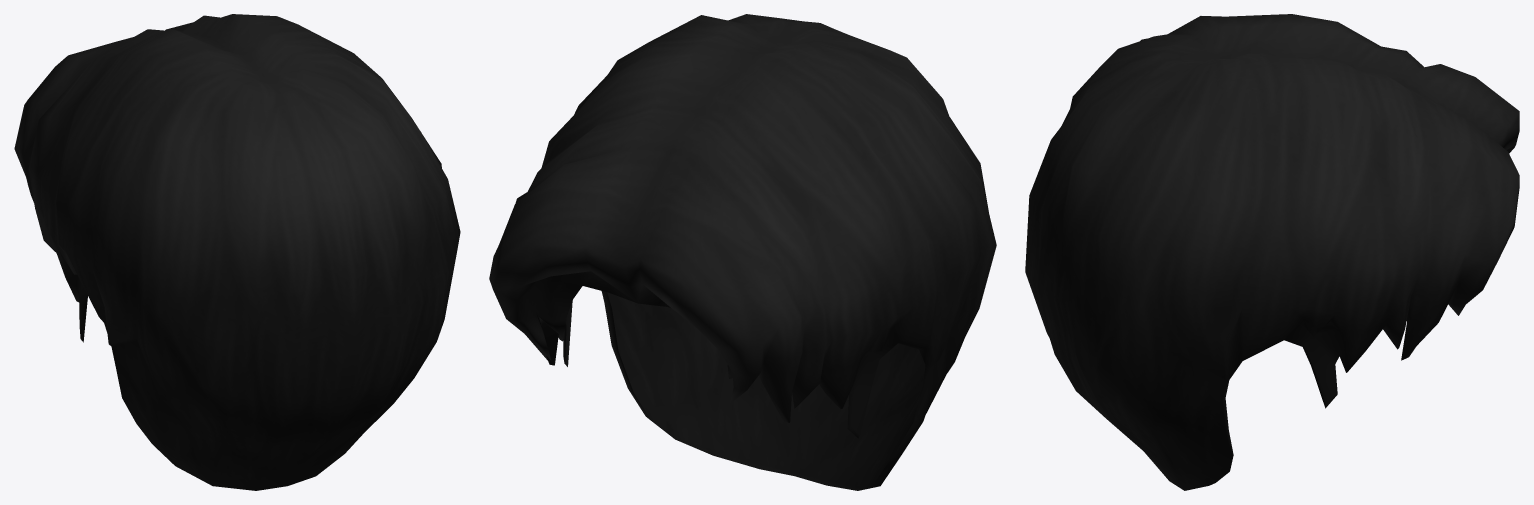
File: Hair_Male_006_textured_black.glb
The picture shows the model from 3 angles, left to right: view 1: azimuth 30°, elevation 25°; view 2: azimuth 150°, elevation 25°; view 3: azimuth 270°, elevation 25°; orthographic projection. The views are drawn at different scales.
Visible parts, largest first — view 1: Hair_Male_006; view 2: Hair_Male_006; view 3: Hair_Male_006.
Boxes of the visible parts, left/top/right/bottom form: Hair_Male_006: left=14, top=14, right=460, bottom=490; Hair_Male_006: left=489, top=14, right=996, bottom=490; Hair_Male_006: left=1025, top=14, right=1519, bottom=490.
Size of the model in its own units: 0.195 by 0.2308 by 0.2425.
1 material, 1 textured.
